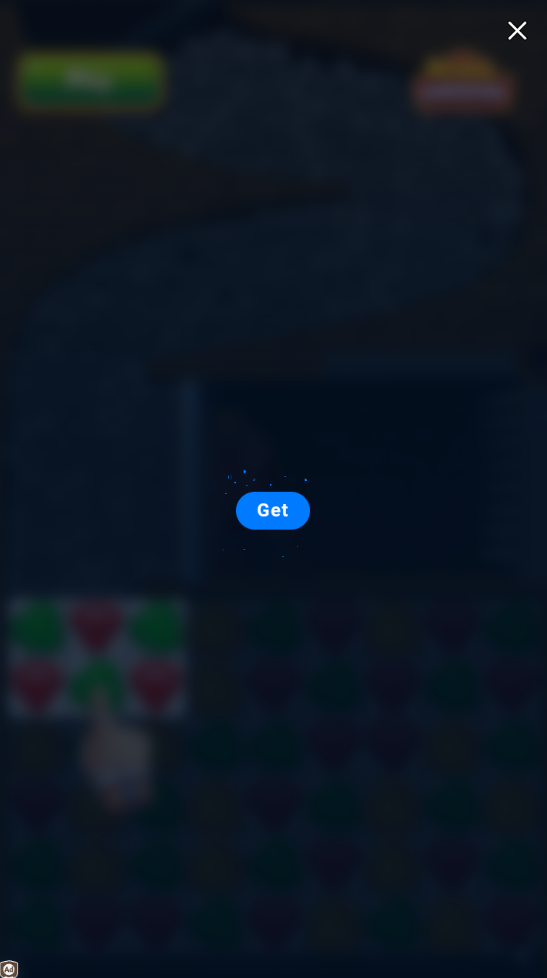close_button: (501, 13, 531, 46)
